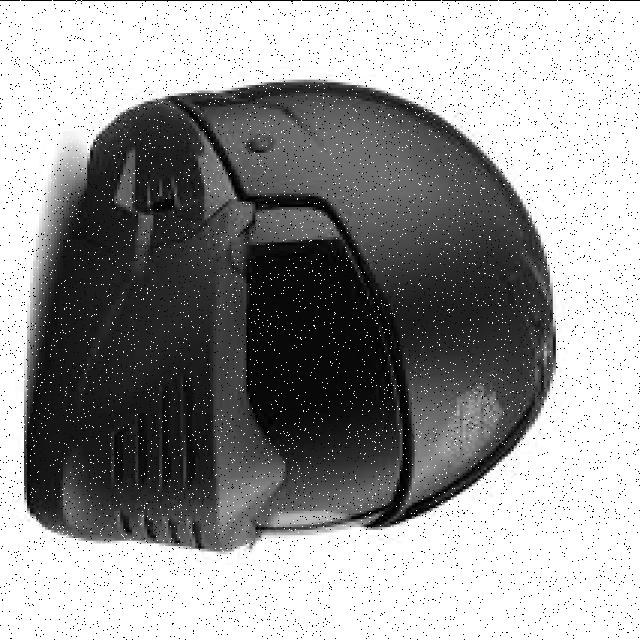Helmet: (21, 73, 563, 579)
